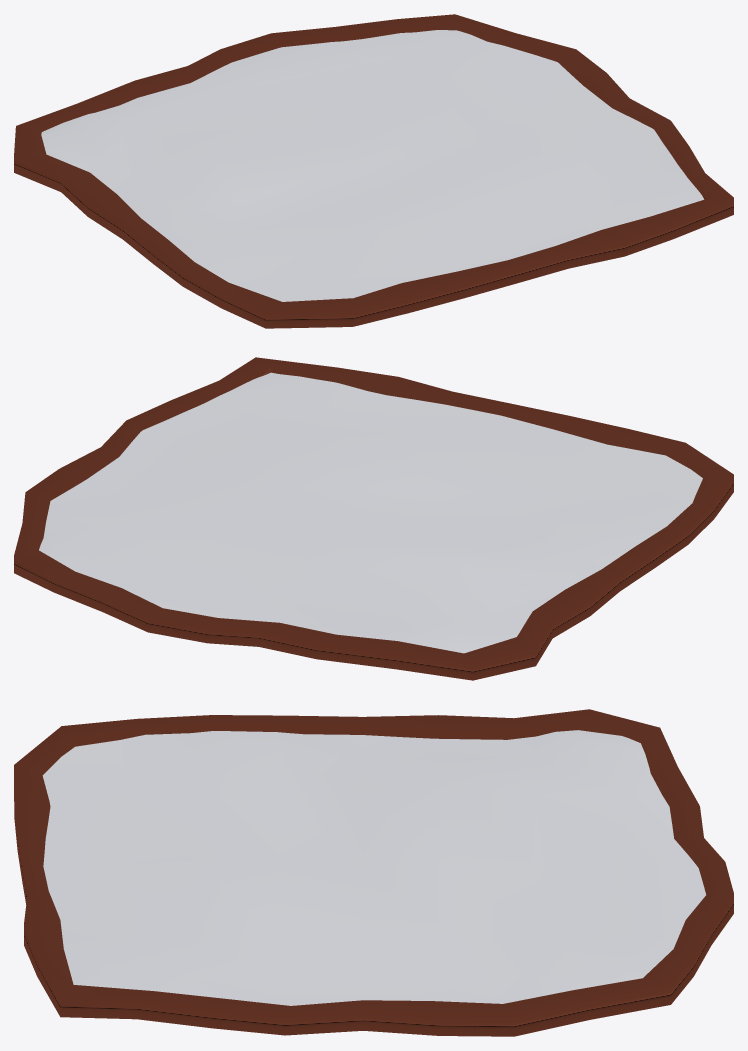
File: SandPit.fbx
3 renders of one model, top to bottom at view 1: azimuth 30°, elevation 25°; view 2: azimuth 150°, elevation 25°; view 3: azimuth 270°, elevation 25°, orthographic. The views are drawn at different scales.
Parts seen in each view (by area): view 1: Plane, Cube; view 2: Plane, Cube; view 3: Plane, Cube.
Part boxes in pixels (left/top/right/bottom): Plane: left=41, top=30, right=704, bottom=301; Cube: left=14, top=14, right=733, bottom=328; Plane: left=39, top=372, right=702, bottom=653; Cube: left=14, top=357, right=733, bottom=680; Plane: left=42, top=730, right=705, bottom=1005; Cube: left=14, top=709, right=733, bottom=1036.
Bounding box in the file's own units: 2407 × 95.86 × 2386.
